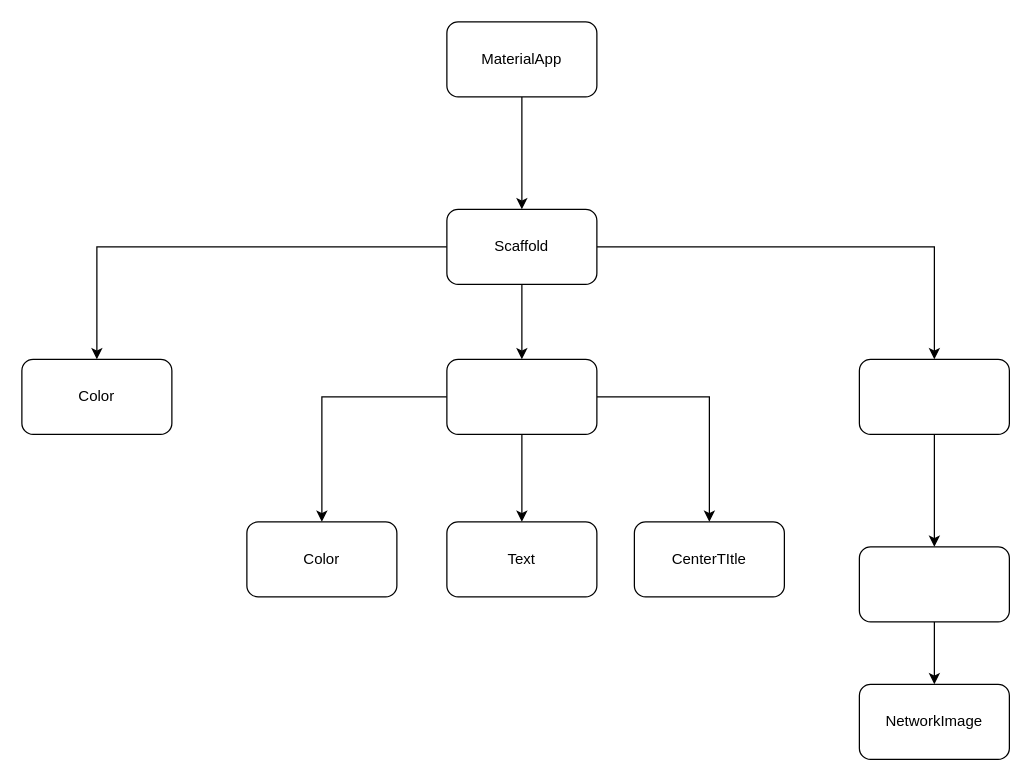
The diagram is 1031 pixels wide and 781 high, and some of its shapes have lost their labels. Here are the shapes that lost their labels. From the top down, the centre of each, then its label:
At (521,396): "AppBar".
At (933,396): "Center".
At (933,584): "Image".
